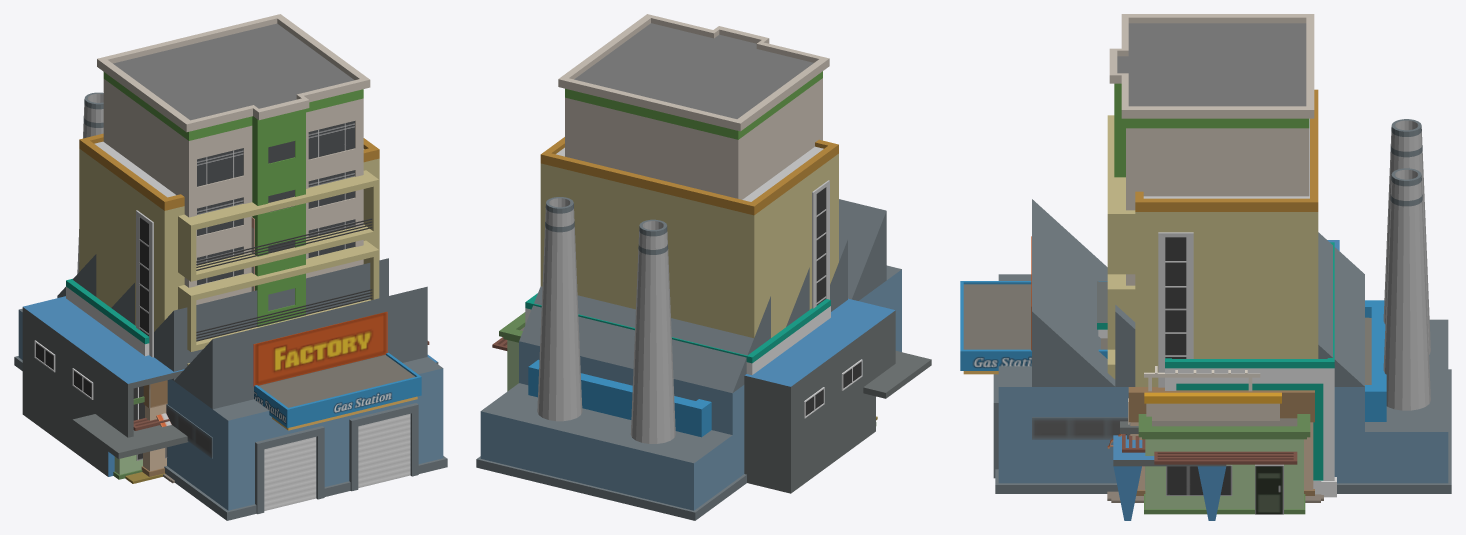
Rendered from Buildings.fbx.
3 renders of one model, left to right at view 1: azimuth 30°, elevation 25°; view 2: azimuth 150°, elevation 25°; view 3: azimuth 270°, elevation 25°, orthographic. The views are drawn at different scales.
Parts seen in each view (by area): view 1: Building_Factory, Building Sky_big_color01, Building_Residential_color01, Building_House_04_color01, Building_Gas Station, Building_House_03_color01, Building_Coffee Shop, Building_Super Market; view 2: Building_Factory, Building_Residential_color01, Building Sky_big_color01, Building_House_04_color01, Building_Gas Station, Building_House_03_color01, Building_Super Market; view 3: Building_Factory, Building Sky_big_color01, Building_Residential_color01, Building_Super Market, Building_Gas Station, Building_House_03_color01, Building_Auto Service, Building_House_04_color01, Building_Coffee Shop, Building_House_01_color01.
Boxes of the visible parts, <box> form: Building_Factory: <box>14,92,447,520</box>; Building Sky_big_color01: <box>97,14,370,326</box>; Building_Residential_color01: <box>79,133,379,365</box>; Building_House_04_color01: <box>22,296,438,483</box>; Building_Gas Station: <box>254,352,421,430</box>; Building_House_03_color01: <box>66,278,149,356</box>; Building_Coffee Shop: <box>141,380,171,476</box>; Building_Super Market: <box>113,341,429,479</box>; Building_Factory: <box>476,197,901,520</box>; Building_Residential_color01: <box>540,137,838,338</box>; Building Sky_big_color01: <box>558,14,829,199</box>; Building_House_04_color01: <box>744,298,931,493</box>; Building_Gas Station: <box>528,359,711,437</box>; Building_House_03_color01: <box>525,293,830,374</box>; Building_Super Market: <box>492,312,876,425</box>; Building_Factory: <box>993,119,1451,493</box>; Building Sky_big_color01: <box>1109,14,1314,285</box>; Building_Residential_color01: <box>1107,89,1318,387</box>; Building_Super Market: <box>1122,414,1310,514</box>; Building_Gas Station: <box>960,281,1386,421</box>; Building_House_03_color01: <box>1097,242,1336,497</box>; Building_Auto Service: <box>1144,392,1281,420</box>; Building_House_04_color01: <box>1113,240,1339,520</box>; Building_Coffee Shop: <box>1107,387,1314,495</box>; Building_House_01_color01: <box>1111,366,1320,502</box>.
Size of the model in its own units: 2553 by 2502 by 2951.
